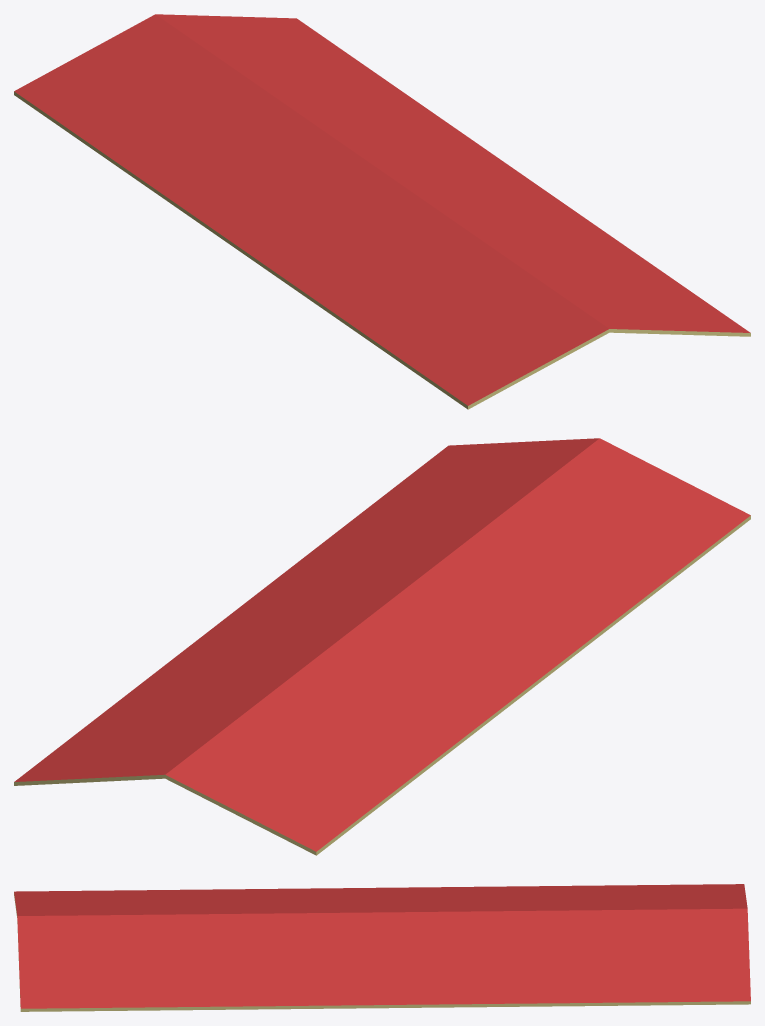
3 views of the same model, one above another, from view 1: azimuth 30°, elevation 25°; view 2: azimuth 150°, elevation 25°; view 3: azimuth 270°, elevation 25° (orthographic). The views are drawn at different scales.
Size of the model in its own units: 8.48 by 21.18 by 1.18.
